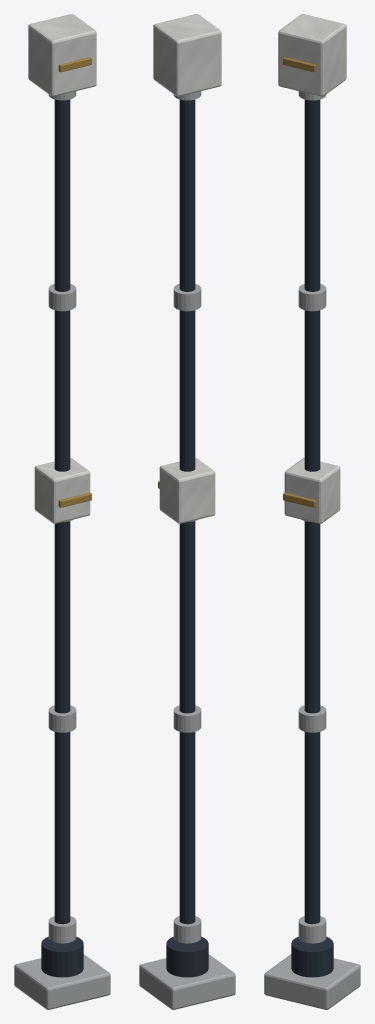
Rendered from probe_magnetometer_boom.glb.
The picture shows the model from 3 angles, left to right: view 1: azimuth 30°, elevation 25°; view 2: azimuth 210°, elevation 25°; view 3: azimuth 330°, elevation 25°; orthographic projection.
Parts seen in each view (by area): view 1: Outboard_Magnetometer, Composite_BoomSection, Boom_Mount, Composite_BoomSection.003, Composite_BoomSection.001, Inboard_Magnetometer, Composite_BoomSection.002, Boom_Hinge, Boom_Joint, Boom_Joint.001, Boom_Joint.003, SensorBand (+1 smaller); view 2: Outboard_Magnetometer, Composite_BoomSection, Boom_Mount, Composite_BoomSection.003, Composite_BoomSection.001, Inboard_Magnetometer, Composite_BoomSection.002, Boom_Hinge, Boom_Joint, Boom_Joint.001, Boom_Joint.003; view 3: Outboard_Magnetometer, Composite_BoomSection, Boom_Mount, Composite_BoomSection.003, Composite_BoomSection.001, Inboard_Magnetometer, Composite_BoomSection.002, Boom_Hinge, Boom_Joint, Boom_Joint.001, Boom_Joint.003, SensorBand (+1 smaller).
Boxes of the visible parts, box(x1,y1,x2,y2) form: Outboard_Magnetometer: box(28, 14, 96, 96); Composite_BoomSection: box(54, 732, 70, 924); Boom_Mount: box(14, 954, 110, 1009); Composite_BoomSection.003: box(54, 99, 70, 291); Composite_BoomSection.001: box(54, 521, 70, 713); Inboard_Magnetometer: box(34, 458, 90, 523); Composite_BoomSection.002: box(54, 310, 70, 471); Boom_Hinge: box(41, 936, 83, 977); Boom_Joint: box(48, 916, 76, 943); Boom_Joint.001: box(48, 705, 76, 732); Boom_Joint.003: box(48, 284, 76, 311); SensorBand: box(58, 492, 91, 507); Outboard_Magnetometer: box(153, 14, 221, 96); Composite_BoomSection: box(179, 732, 195, 924); Boom_Mount: box(139, 954, 235, 1009); Composite_BoomSection.003: box(179, 99, 195, 291); Composite_BoomSection.001: box(179, 521, 195, 713); Inboard_Magnetometer: box(159, 458, 215, 523); Composite_BoomSection.002: box(179, 310, 195, 471); Boom_Hinge: box(166, 936, 208, 977); Boom_Joint: box(173, 916, 201, 943); Boom_Joint.001: box(173, 705, 201, 732); Boom_Joint.003: box(173, 284, 201, 311); Outboard_Magnetometer: box(278, 14, 346, 96); Composite_BoomSection: box(304, 732, 320, 924); Boom_Mount: box(264, 954, 360, 1009); Composite_BoomSection.003: box(304, 99, 320, 291); Composite_BoomSection.001: box(304, 521, 320, 713); Inboard_Magnetometer: box(284, 458, 340, 523); Composite_BoomSection.002: box(304, 310, 320, 471); Boom_Hinge: box(291, 936, 333, 977); Boom_Joint: box(298, 916, 326, 943); Boom_Joint.001: box(298, 705, 326, 732); Boom_Joint.003: box(298, 284, 326, 311); SensorBand: box(283, 492, 316, 507).
Size of the model in its own units: 0.24 by 3.43 by 0.22.
Materials: 4 (2 with a texture image).
